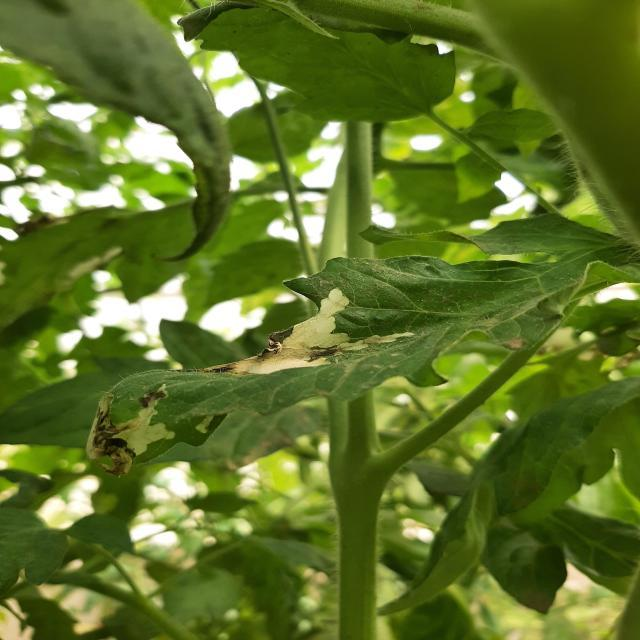Tuta absoluta: (226, 286, 370, 410), (112, 398, 182, 465), (343, 324, 414, 356)
